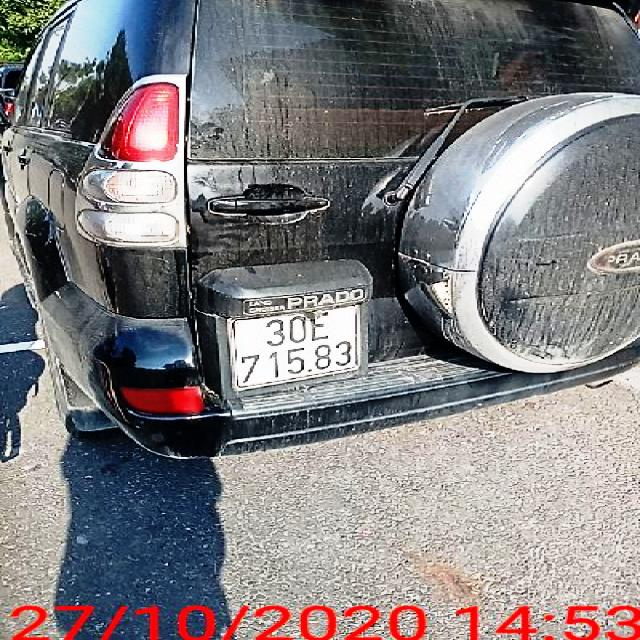license_plate: (229, 306, 362, 392)
